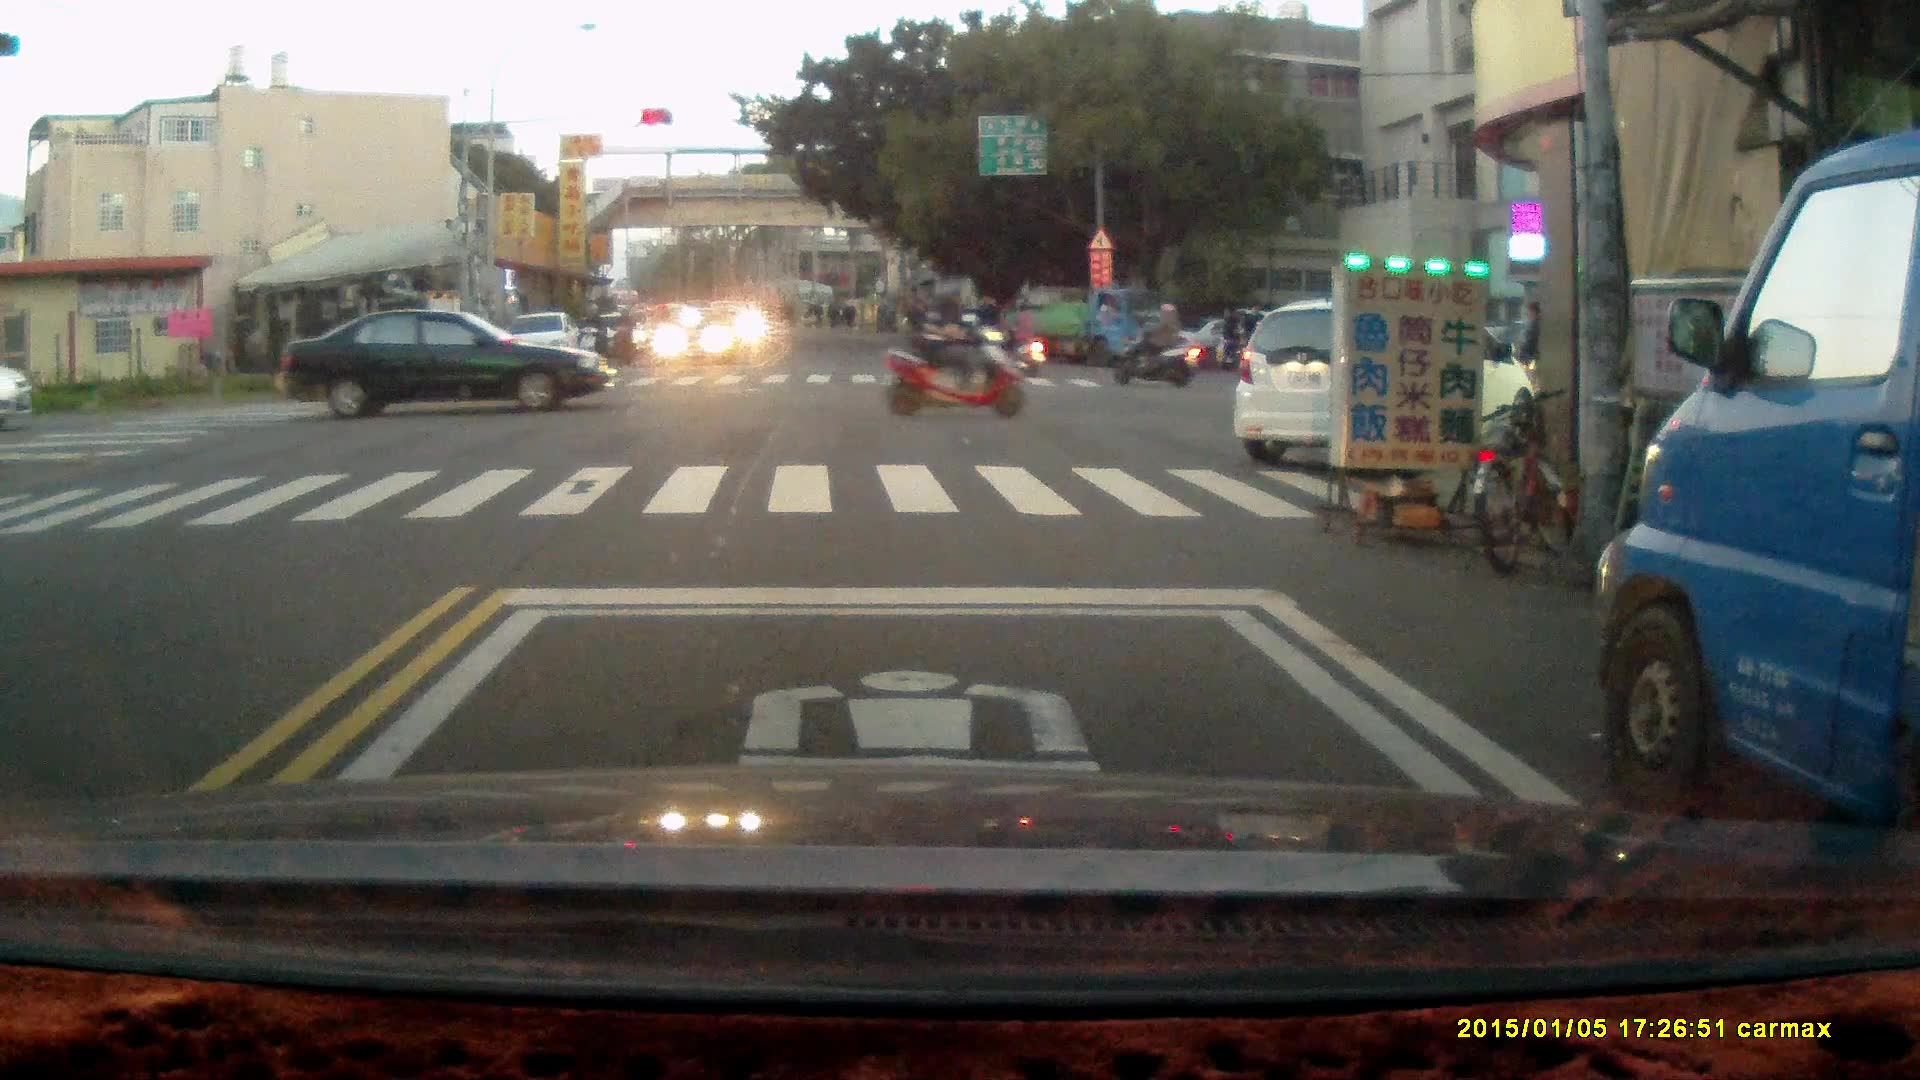pedestrian: (1515, 302, 1548, 382)
rider: (881, 282, 1022, 418), (1119, 302, 1200, 385), (980, 295, 1047, 380), (576, 300, 608, 366), (609, 303, 637, 365)
vehicle: (1598, 132, 1920, 842), (1233, 296, 1533, 459), (279, 309, 615, 413), (1002, 284, 1179, 367), (494, 313, 586, 377)
